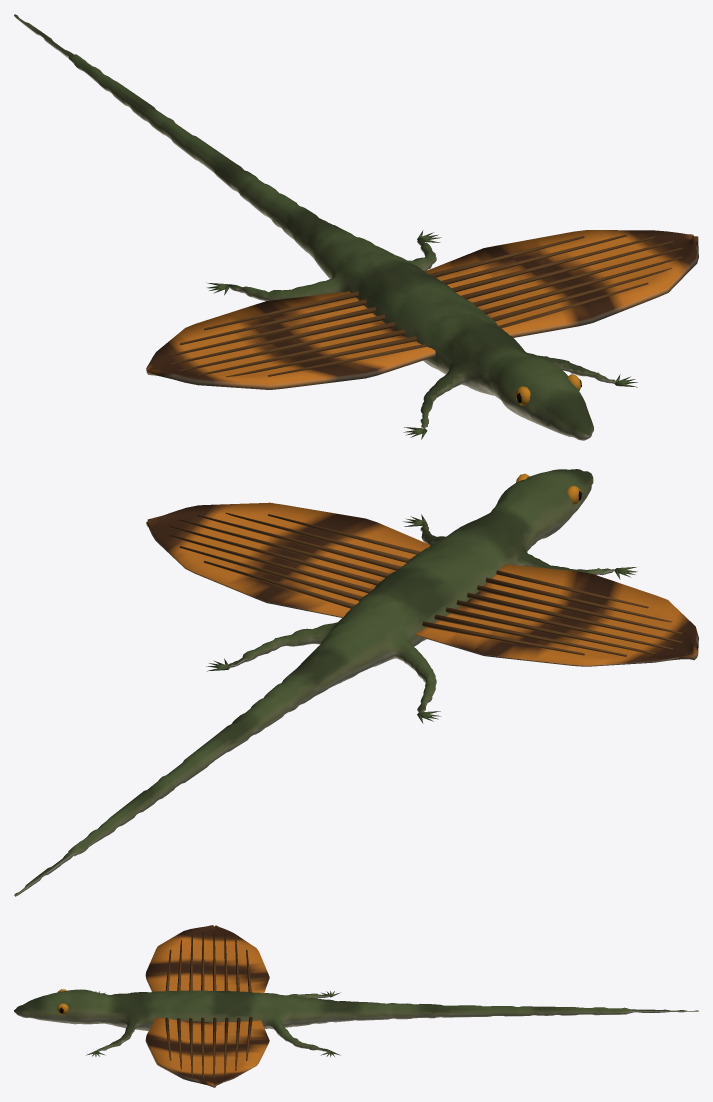
Rendered from Xianglong.fbx.
The picture shows the model from 3 angles, top to bottom: view 1: azimuth 30°, elevation 25°; view 2: azimuth 150°, elevation 25°; view 3: azimuth 270°, elevation 25°; orthographic projection. The views are drawn at different scales.
Parts seen in each view (by area): view 1: Xianglong; view 2: Xianglong; view 3: Xianglong.
Boxes of the visible parts, x1=… form: Xianglong: x1=14, y1=14, x2=698, y2=440; Xianglong: x1=14, y1=469, x2=698, y2=896; Xianglong: x1=14, y1=925, x2=698, y2=1087.
Size of the model in its own units: 0.8071 by 0.0855 by 1.46.
